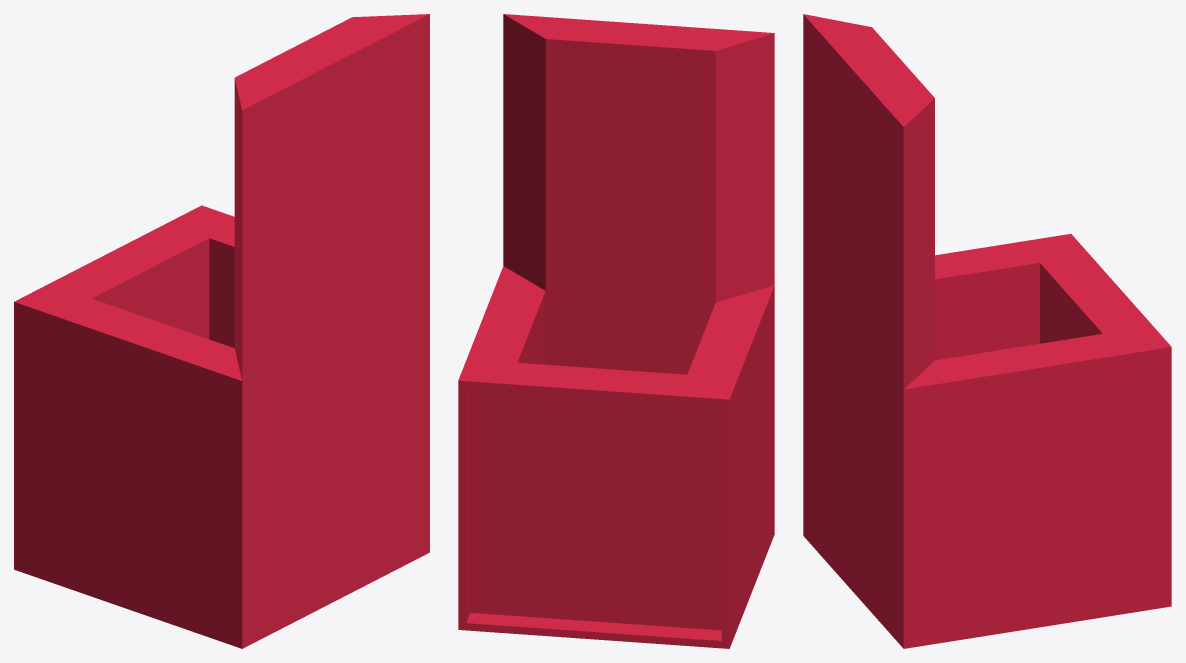
The model's file is toilet.gltf.
3 renders of one model, left to right at view 1: azimuth 30°, elevation 25°; view 2: azimuth 150°, elevation 25°; view 3: azimuth 270°, elevation 25°, orthographic. The views are drawn at different scales.
Visible parts, largest first — view 1: Cube; view 2: Cube; view 3: Cube.
Boxes of the visible parts, x1,y1,x2,y2 form: Cube: (14,14,429,648); Cube: (458,14,774,648); Cube: (803,14,1171,648).
Size of the model in its own units: 2.58 by 4.02 by 2.58.
